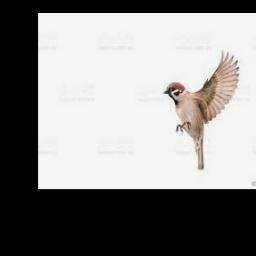Sparrow: (163, 50, 240, 170)
